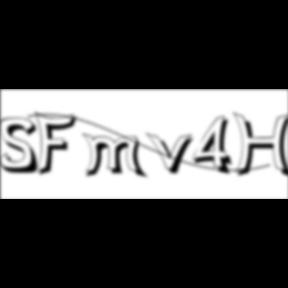4: (192, 115, 238, 179)
F: (34, 110, 82, 178)
S: (0, 117, 46, 176)
m: (82, 132, 150, 181)
v: (146, 131, 200, 177)
